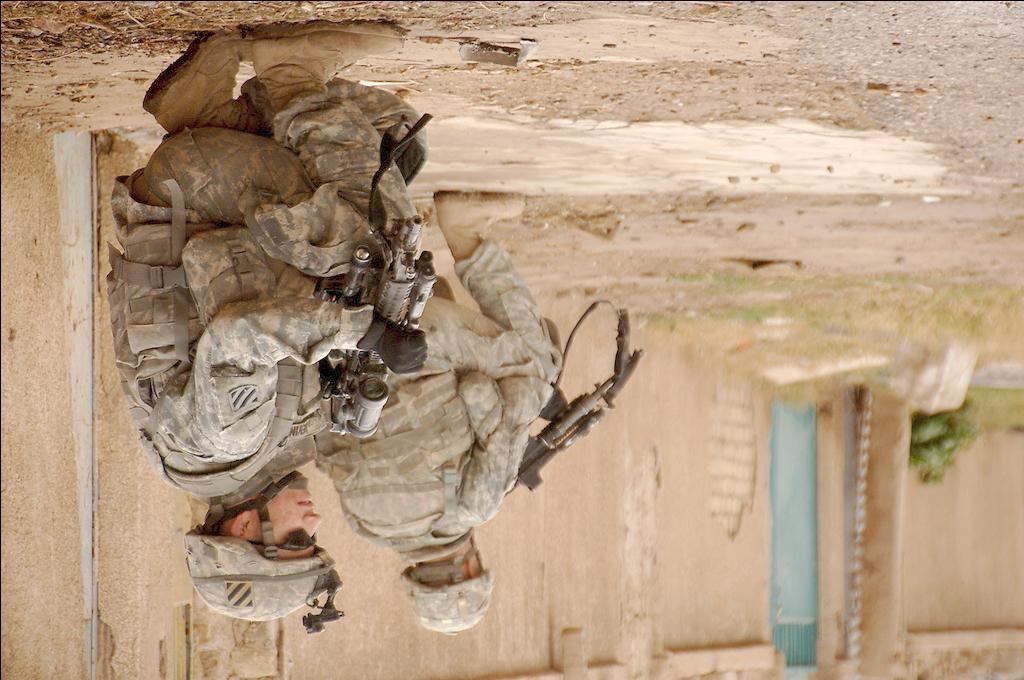gun: (334, 219, 424, 440), (514, 377, 631, 491)
